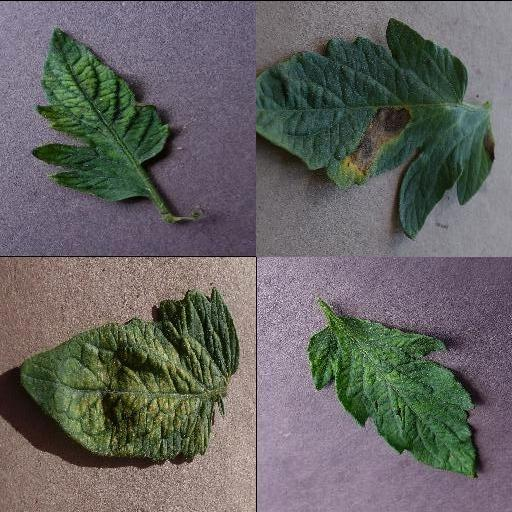Early Blight: (256, 16, 496, 239)
Mosaic Virus: (305, 315, 478, 479), (30, 26, 170, 202)
Spider Mites: (20, 286, 242, 462)
